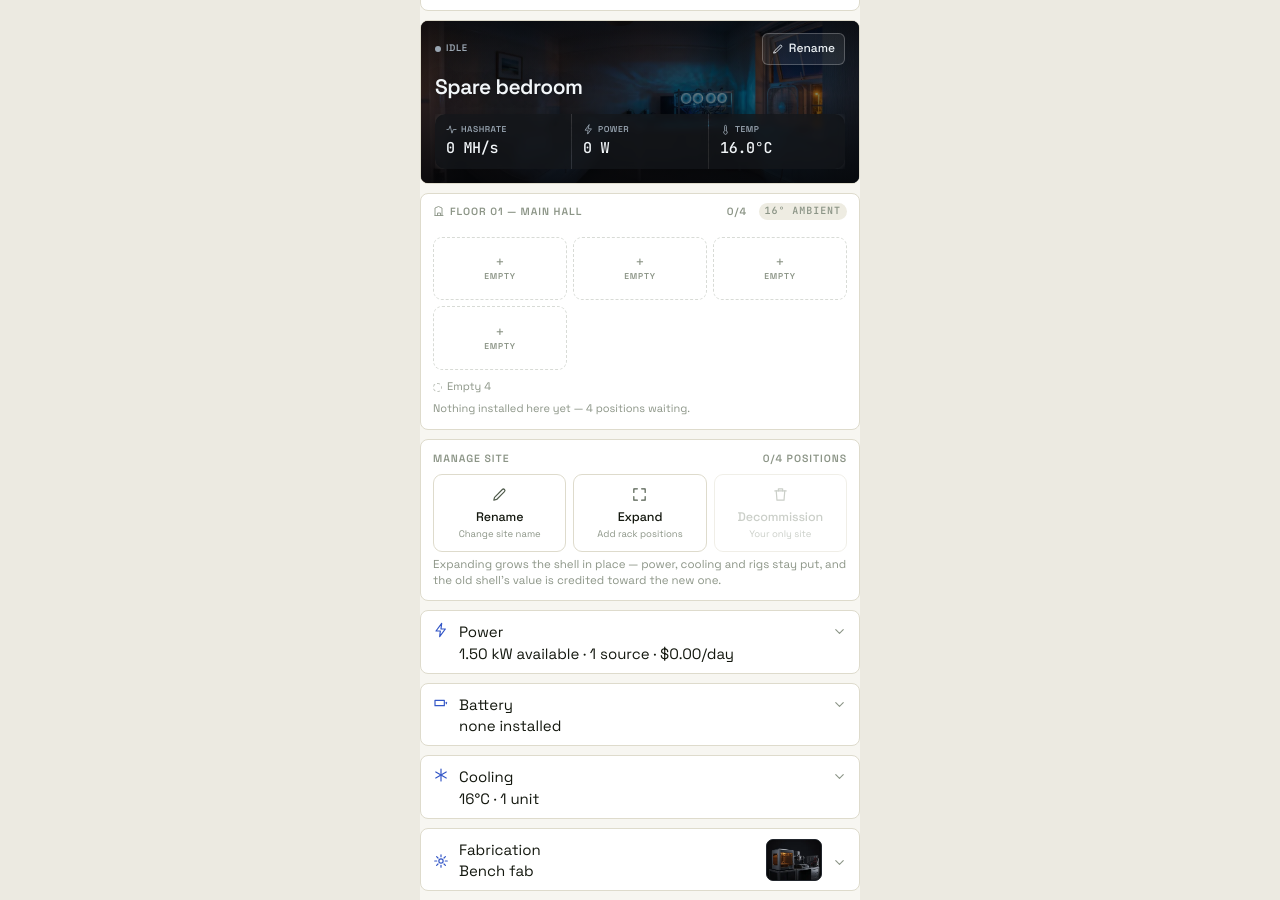
SitesView › Fabrication › once installed, the action becomes Upgrade and the picker only offers strictly higher tiers
(page scrolled)
What coordinates should you click on to do the following:
click the button with class "rig-hd" showing "Fabrication Bench fab"
I would click on:
 (500, 849)
Its box is [421,828,859,890].
(page scrolled)
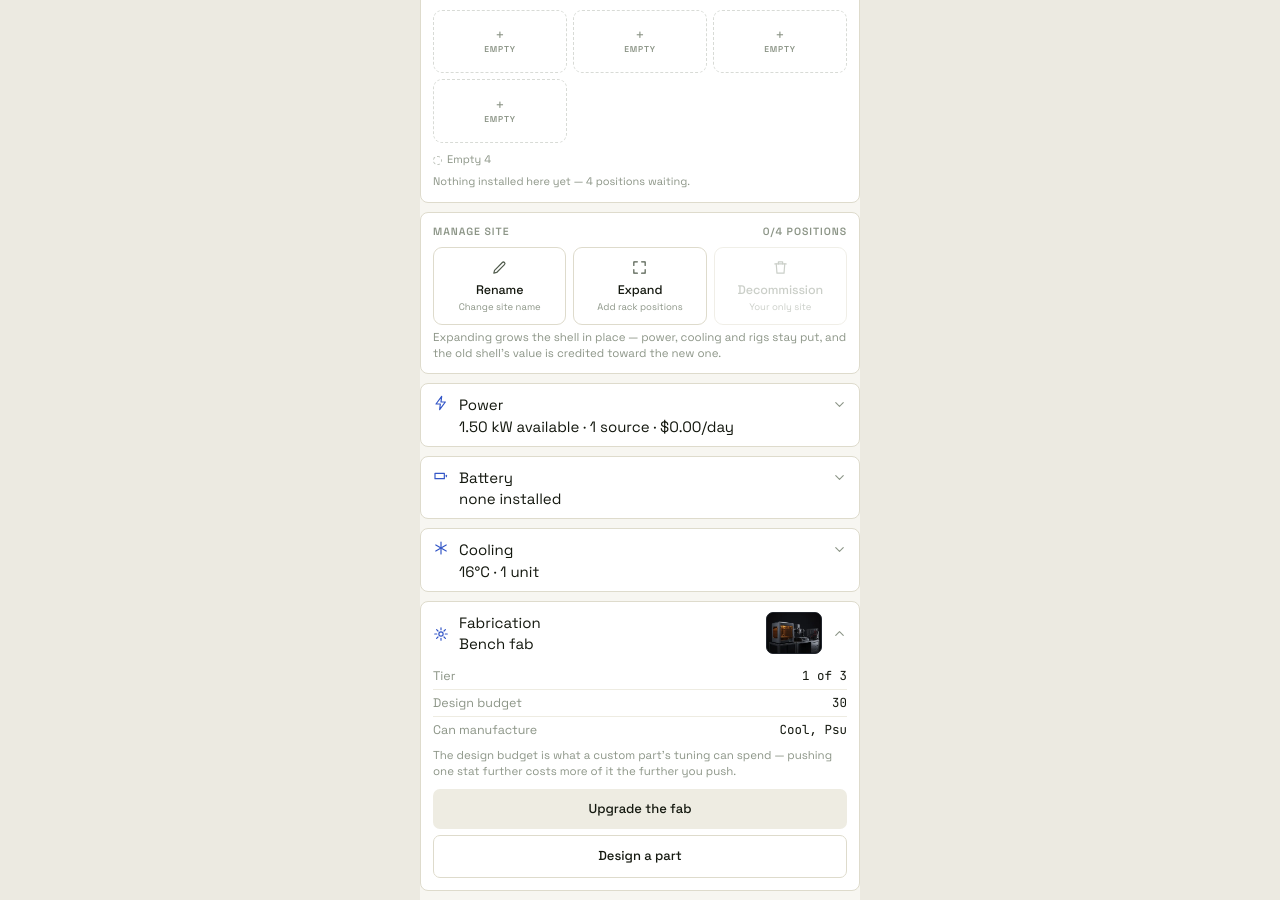
expect the button "Upgrade the fab" is shown: met
What coordinates should you click on to do the following:
click the button "Upgrade the fab"
I would click on:
 (640, 809)
Its box is [433,789,847,829].
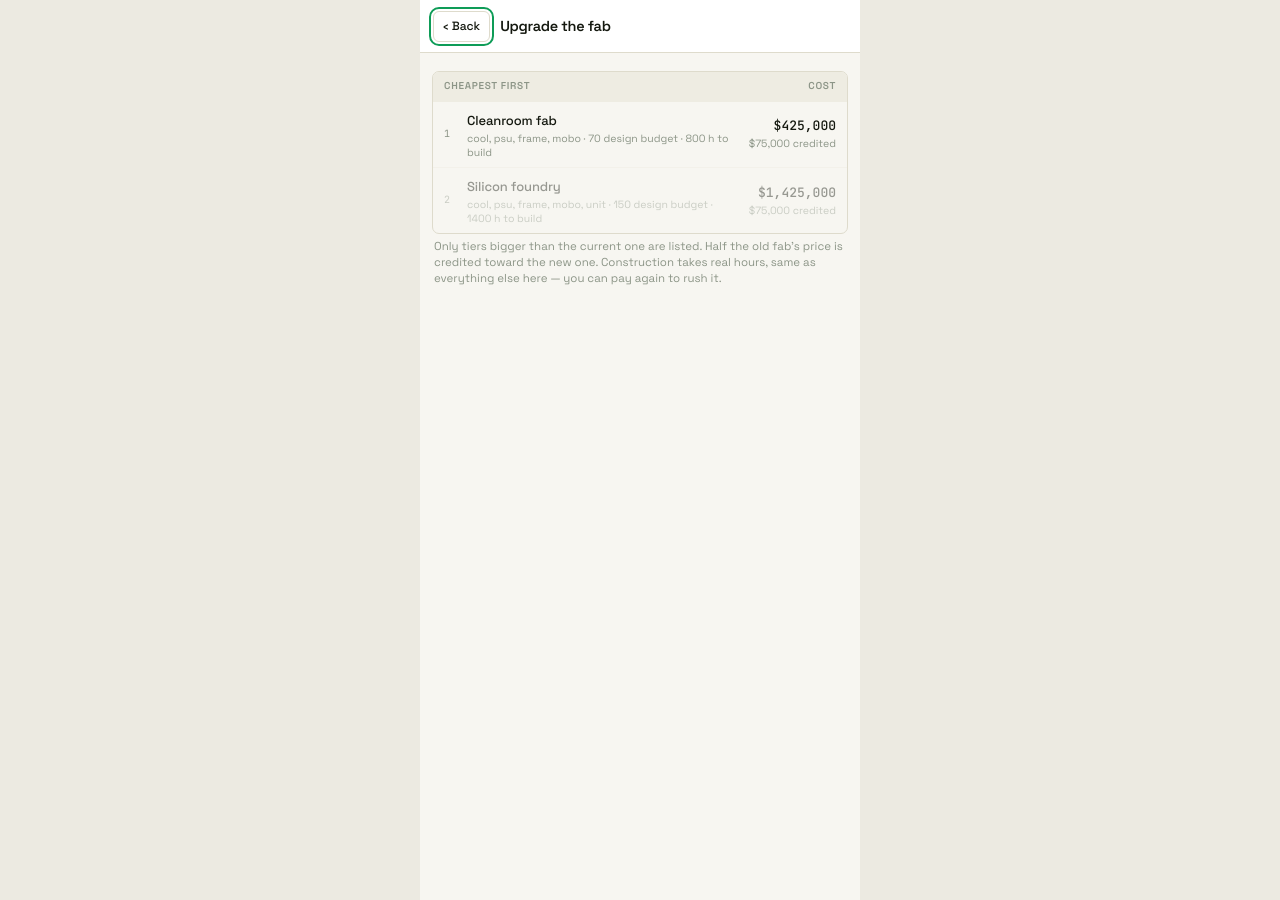
expect the dialog with class "sheet" shows "Cleanroom fab": met, box [433,101,847,167]
expect the dialog with class "sheet" shows "Silicon foundry": met, box [433,167,847,233]
expect the dialog with class "sheet" shows "$75,000 credited": met, box [433,101,847,167]
